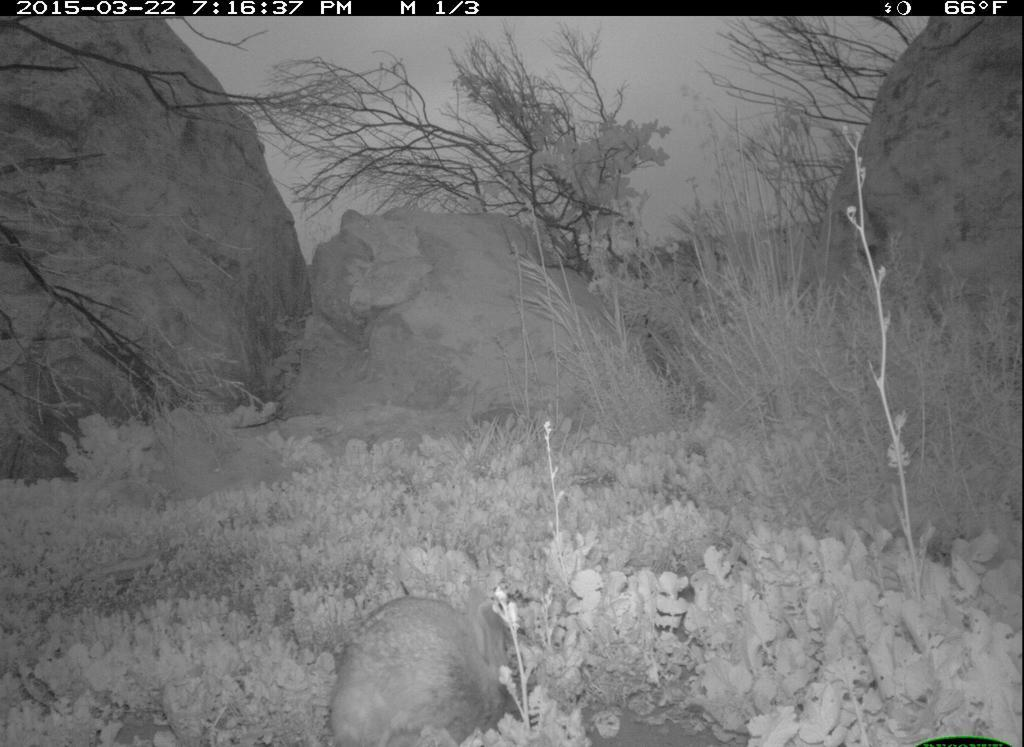rabbit: (315, 579, 532, 747)
